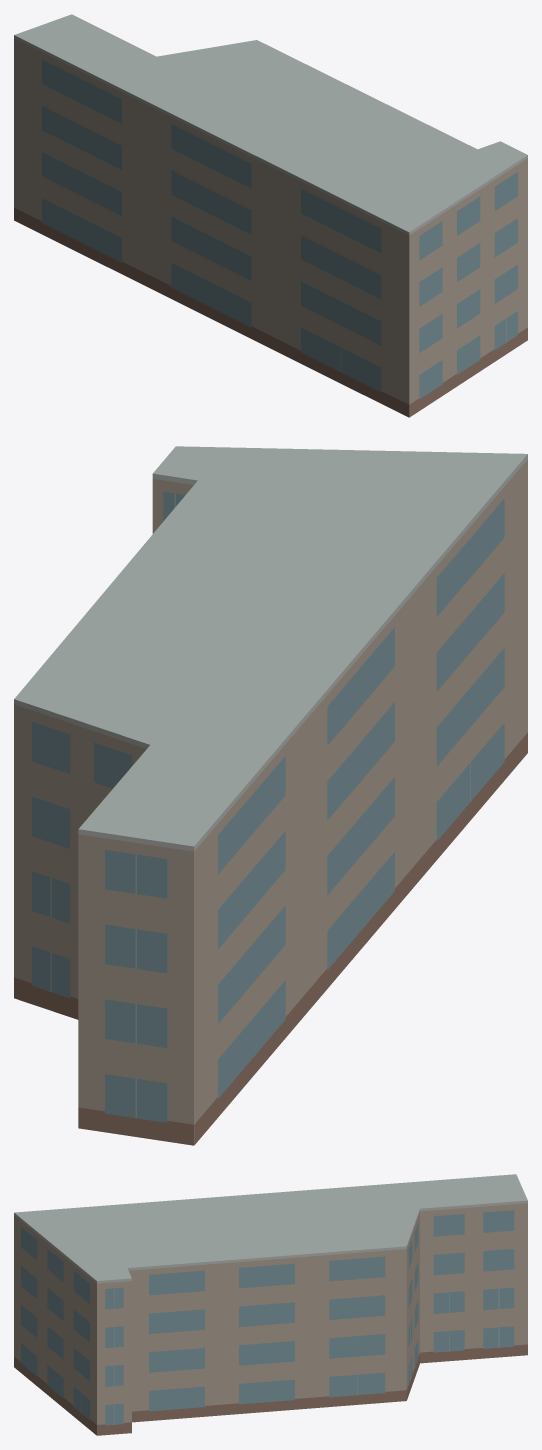
The model's file is survey-upis-32942818.glb.
3 views of the same model, one above another, from view 1: azimuth 30°, elevation 25°; view 2: azimuth 150°, elevation 25°; view 3: azimuth 270°, elevation 25° (orthographic). The views are drawn at different scales.
Visible parts, largest first — view 1: survey-upis-32942818.tmp; view 2: survey-upis-32942818.tmp; view 3: survey-upis-32942818.tmp.
Part boxes in pixels (x1,y1,x2,y2): survey-upis-32942818.tmp: (14, 14, 527, 417); survey-upis-32942818.tmp: (14, 446, 527, 1145); survey-upis-32942818.tmp: (14, 1174, 527, 1435).
Bounding box in the file's own units: 21.07 × 14.2 × 42.77.
